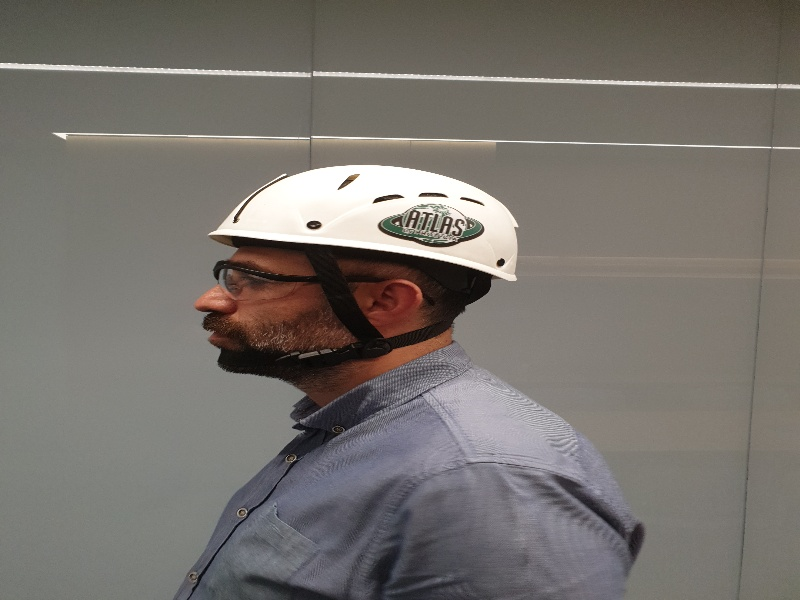Baret: (210, 164, 520, 277)
Gozluk: (212, 261, 394, 301)
